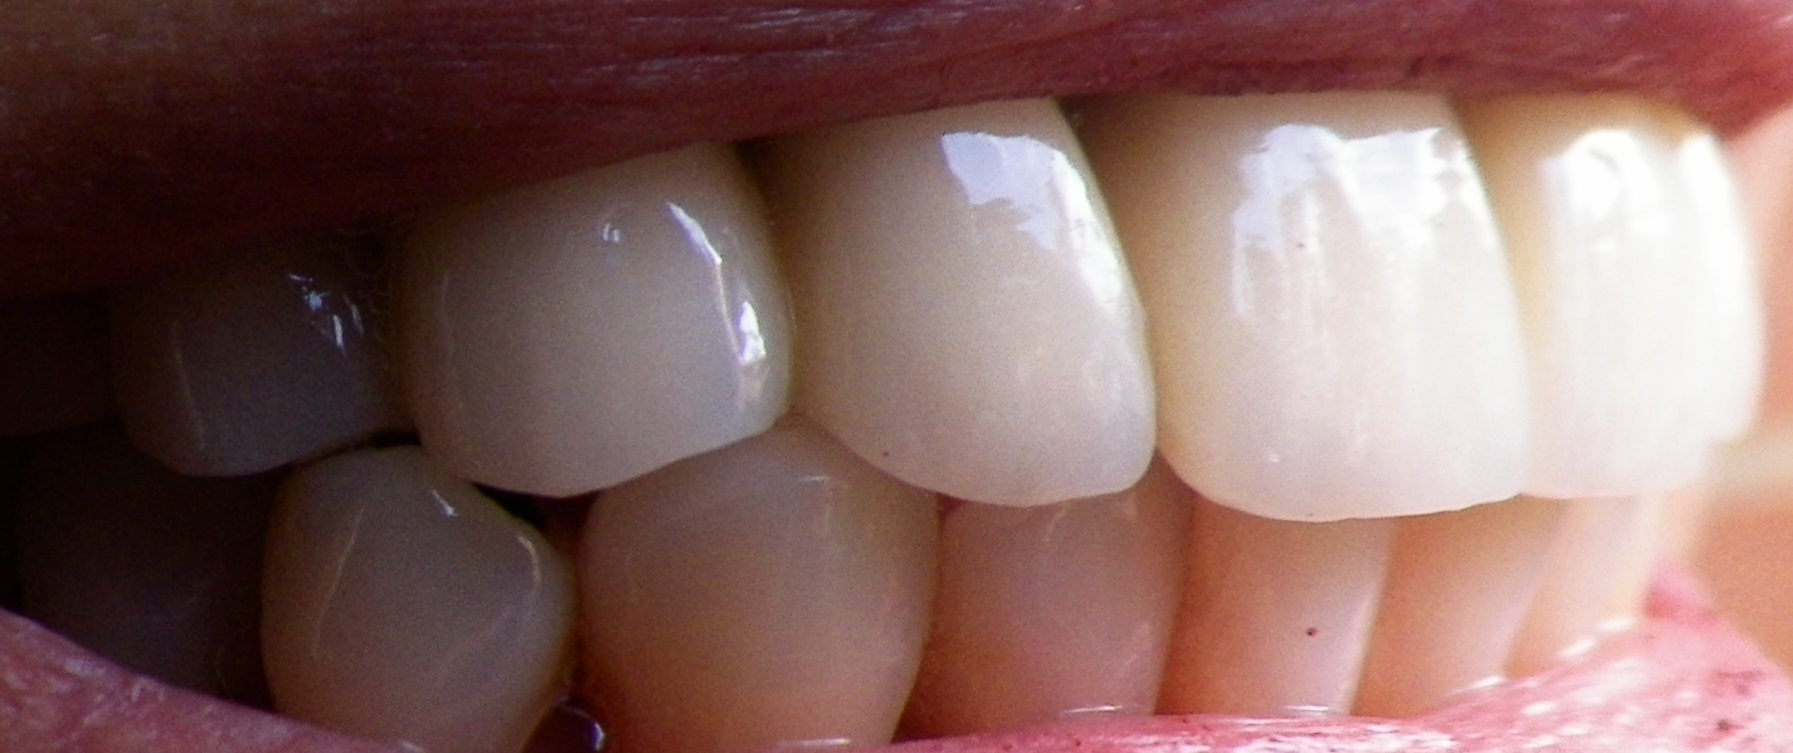boca: (59, 111, 1771, 746)
